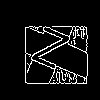Z: (25, 25, 71, 80)
